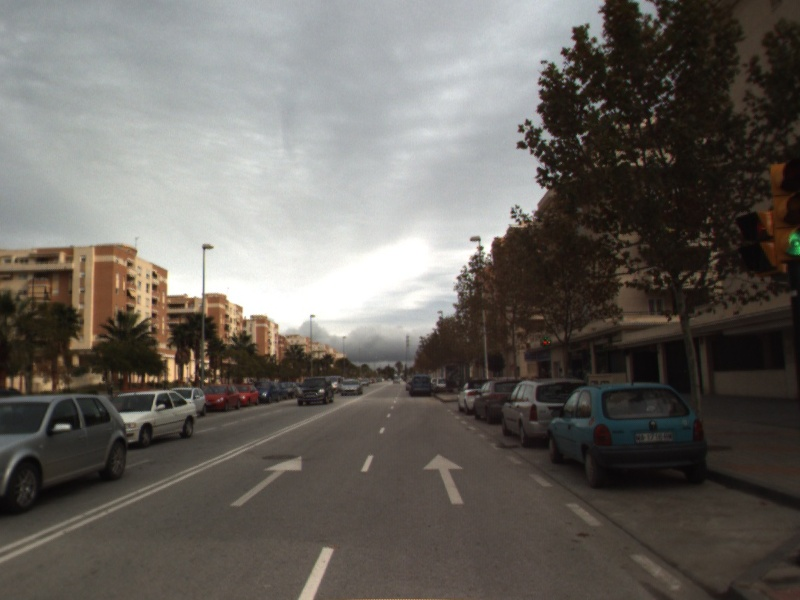STRAIGHT: (228, 454, 304, 508), (421, 452, 468, 506)
